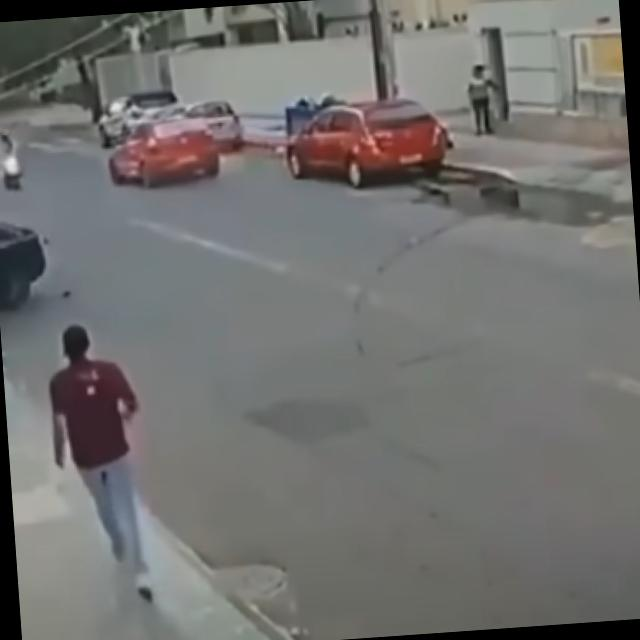person: (43, 320, 152, 610), (466, 62, 504, 135)
